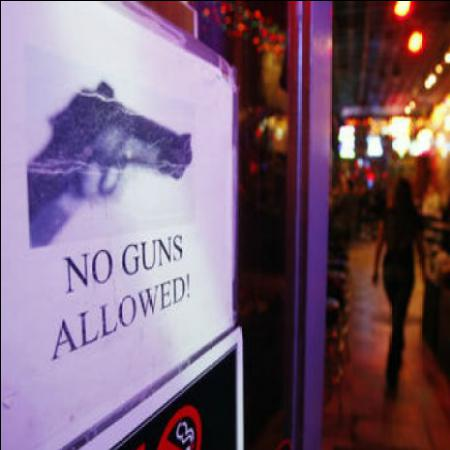Pistol: (22, 76, 189, 222)
